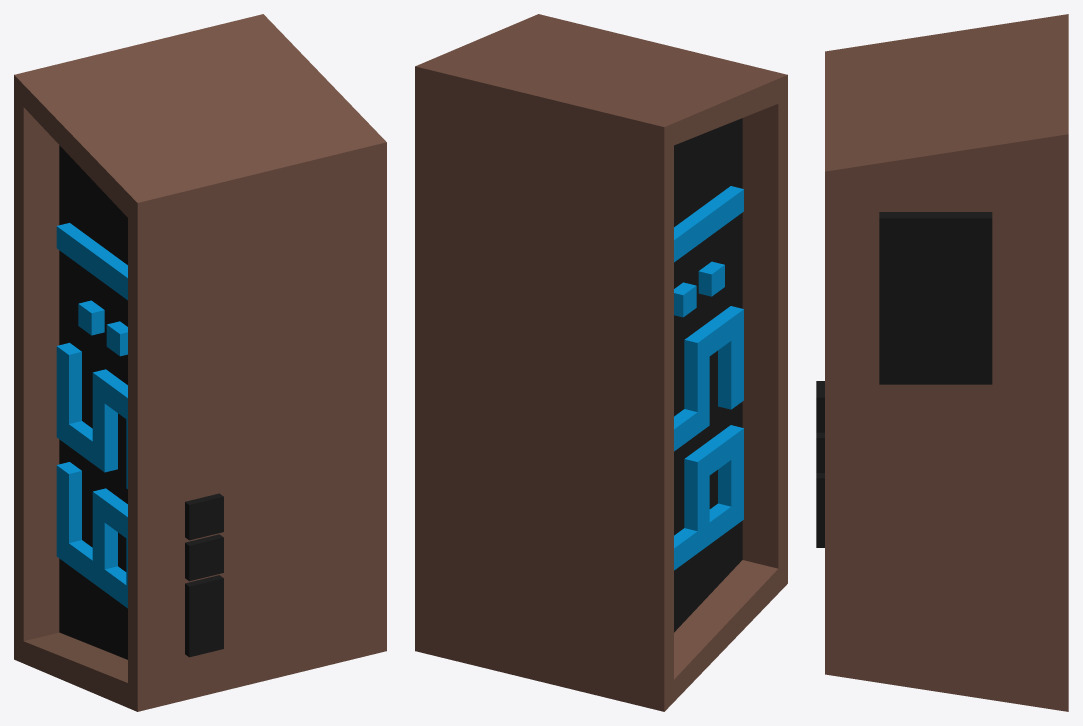
The model's file is Clock.glb.
3 renders of one model, left to right at view 1: azimuth 30°, elevation 25°; view 2: azimuth 150°, elevation 25°; view 3: azimuth 270°, elevation 25°, orthographic.
Visible parts, largest first — view 1: pCube19; view 2: pCube19; view 3: pCube19.
Part boxes in pixels (x1,y1,x2,y2): pCube19: (14, 14, 386, 711); pCube19: (415, 14, 787, 711); pCube19: (816, 14, 1068, 711).
Size of the model in its own units: 64.71 by 138 by 54.5.
